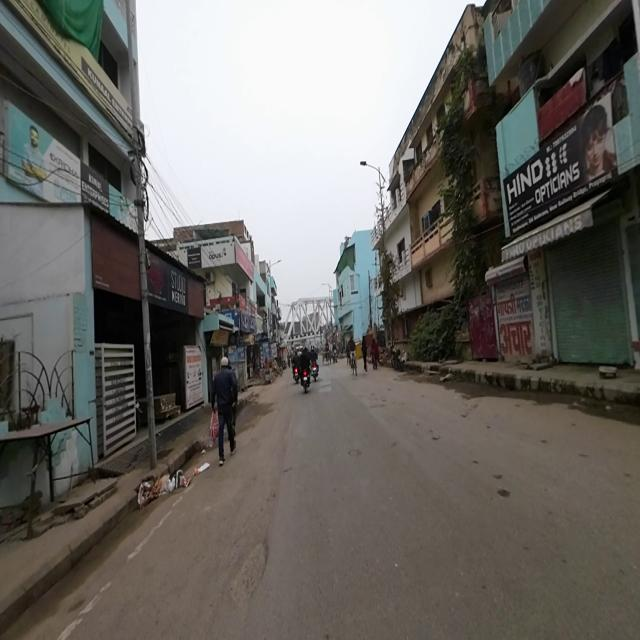Garbage: (133, 470, 190, 508), (192, 450, 215, 480)
